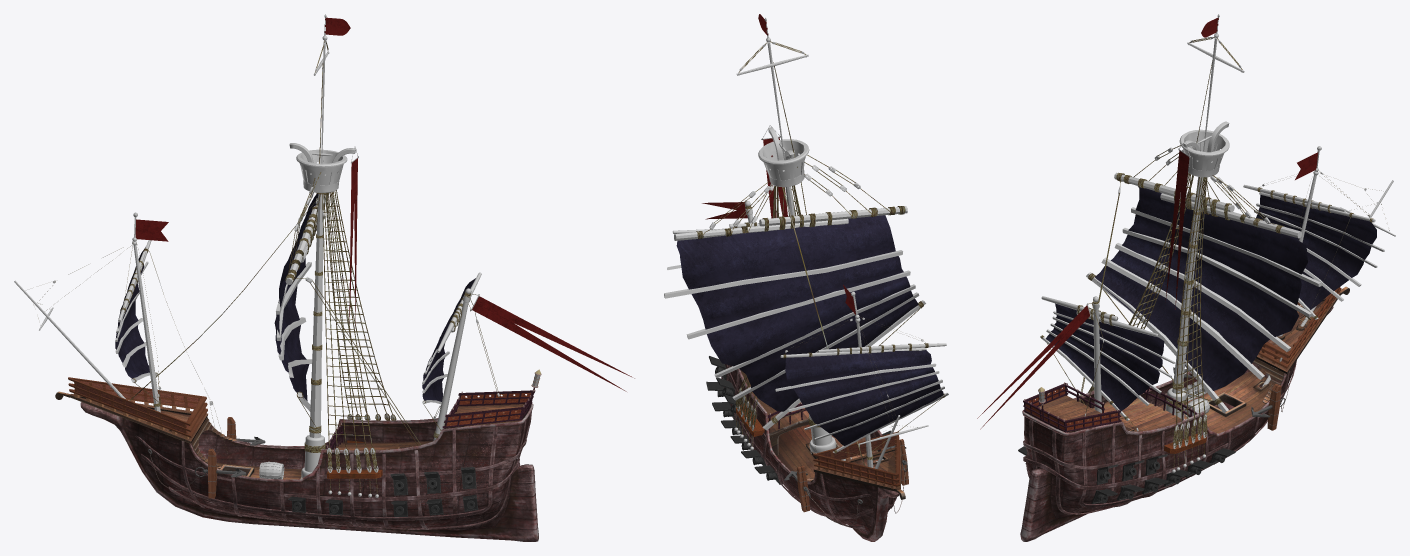
The model's file is HZBQ_Boat_LV01.fbx.
The picture shows the model from 3 angles, left to right: view 1: azimuth 30°, elevation 25°; view 2: azimuth 150°, elevation 25°; view 3: azimuth 270°, elevation 25°; orthographic projection. The views are drawn at different scales.
Parts seen in each view (by area): view 1: HZBQ_TX_B:HZBQ_CHUAN_ceA, HZBQ_TX_B:HZBQ_CHUAN_weigan, HZBQ_TX_B:HZBQ_CHUAN_shengzi, HZBQ_TX_B:HZBQ_CHUAN_fan, HZBQ_TX_B:HZBQ_hulan, HZBQ_TX_B:HZBQ_CHUAN_JiaBan, HZBQ_TX_B:HZBQ_mao, HZBQ_TX_B:HZBQ_CHUAN_suo; view 2: HZBQ_TX_B:HZBQ_CHUAN_fan, HZBQ_TX_B:HZBQ_CHUAN_weigan, HZBQ_TX_B:HZBQ_CHUAN_ceA, HZBQ_TX_B:HZBQ_CHUAN_shengzi, HZBQ_TX_B:HZBQ_CHUAN_JiaBan, HZBQ_TX_B:HZBQ_hulan, HZBQ_TX_B:HZBQ_mao, HZBQ_TX_B:HZBQ_CHUAN_suo; view 3: HZBQ_TX_B:HZBQ_CHUAN_fan, HZBQ_TX_B:HZBQ_CHUAN_ceA, HZBQ_TX_B:HZBQ_CHUAN_weigan, HZBQ_TX_B:HZBQ_CHUAN_shengzi, HZBQ_TX_B:HZBQ_CHUAN_JiaBan, HZBQ_TX_B:HZBQ_hulan, HZBQ_TX_B:HZBQ_CHUAN_suo, HZBQ_TX_B:HZBQ_mao, HZBQ_TX_B:HZBQ_mutong0.
Part boxes in pixels (box(x1,y1,x2,y2)): HZBQ_TX_B:HZBQ_CHUAN_ceA: box(80, 402, 538, 541); HZBQ_TX_B:HZBQ_CHUAN_weigan: box(14, 14, 481, 477); HZBQ_TX_B:HZBQ_CHUAN_shengzi: box(33, 40, 501, 493); HZBQ_TX_B:HZBQ_CHUAN_fan: box(115, 17, 634, 401); HZBQ_TX_B:HZBQ_hulan: box(68, 369, 541, 449); HZBQ_TX_B:HZBQ_CHUAN_JiaBan: box(55, 391, 531, 479); HZBQ_TX_B:HZBQ_mao: box(148, 417, 265, 498); HZBQ_TX_B:HZBQ_CHUAN_suo: box(49, 40, 499, 497); HZBQ_TX_B:HZBQ_CHUAN_fan: box(676, 14, 943, 445); HZBQ_TX_B:HZBQ_CHUAN_weigan: box(664, 17, 948, 469); HZBQ_TX_B:HZBQ_CHUAN_ceA: box(706, 356, 901, 541); HZBQ_TX_B:HZBQ_CHUAN_shengzi: box(696, 41, 945, 465); HZBQ_TX_B:HZBQ_CHUAN_JiaBan: box(740, 370, 905, 499); HZBQ_TX_B:HZBQ_hulan: box(767, 402, 900, 489); HZBQ_TX_B:HZBQ_mao: box(784, 439, 908, 525); HZBQ_TX_B:HZBQ_CHUAN_suo: box(709, 42, 923, 453); HZBQ_TX_B:HZBQ_CHUAN_fan: box(977, 17, 1376, 429); HZBQ_TX_B:HZBQ_CHUAN_ceA: box(1018, 306, 1333, 541); HZBQ_TX_B:HZBQ_CHUAN_weigan: box(1040, 14, 1395, 420); HZBQ_TX_B:HZBQ_CHUAN_shengzi: box(1041, 37, 1384, 469); HZBQ_TX_B:HZBQ_CHUAN_JiaBan: box(1025, 286, 1349, 433); HZBQ_TX_B:HZBQ_hulan: box(1023, 287, 1341, 432); HZBQ_TX_B:HZBQ_CHUAN_suo: box(1084, 37, 1389, 472); HZBQ_TX_B:HZBQ_mao: box(1173, 367, 1288, 430); HZBQ_TX_B:HZBQ_mutong0: box(1182, 381, 1209, 417).
Size of the model in its own units: 642 by 725 by 576.
